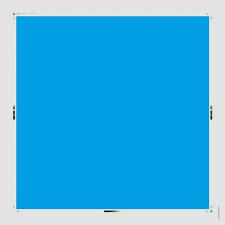cyan_zone: (12, 9, 212, 211)
